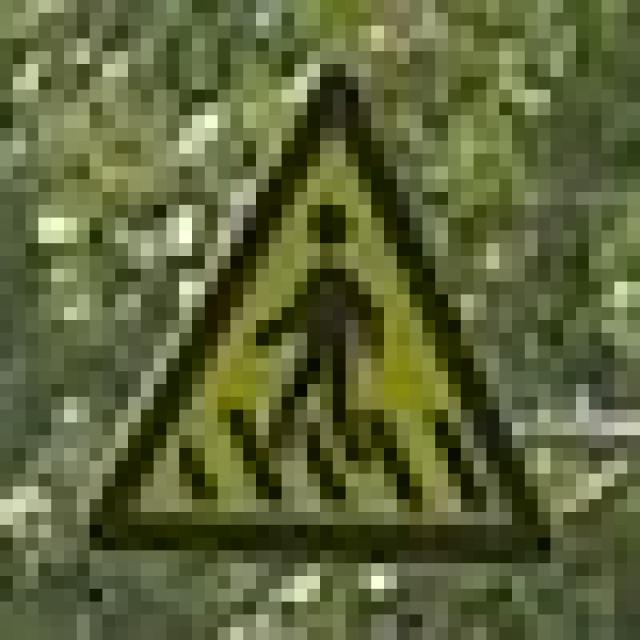pass_either_side: (52, 52, 550, 550)
